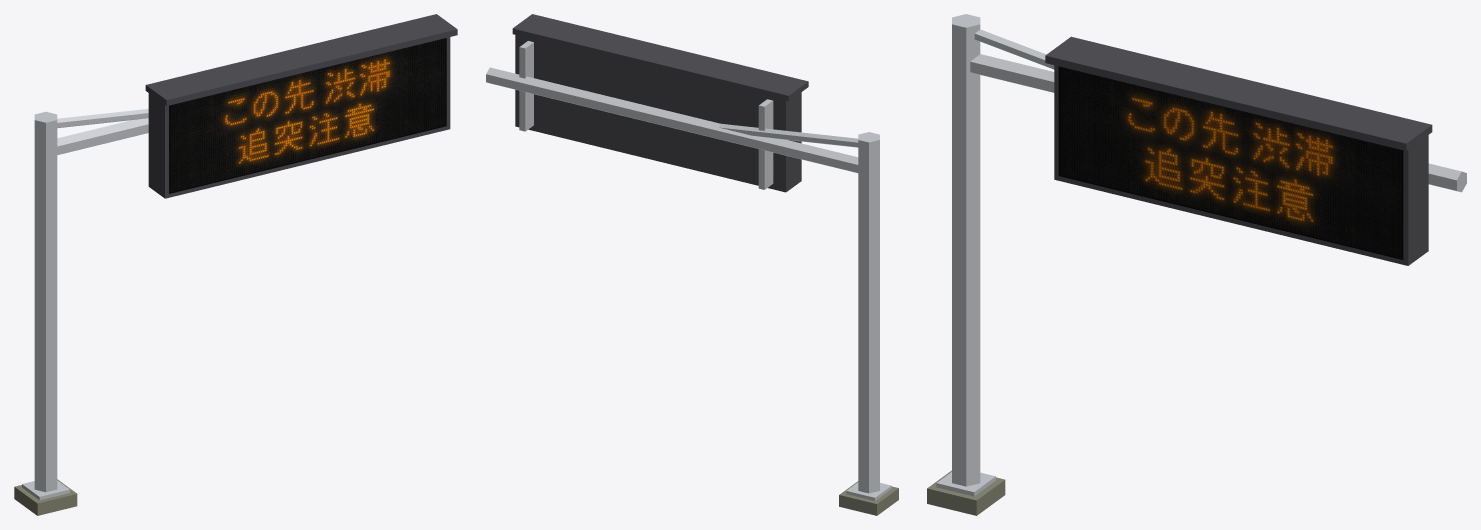
3 renders of one model, left to right at view 1: azimuth 30°, elevation 25°; view 2: azimuth 150°, elevation 25°; view 3: azimuth 330°, elevation 25°, orthographic. The views are drawn at different scales.
Parts seen in each view (by area): view 1: RoadSign_125; view 2: RoadSign_125; view 3: RoadSign_125.
Boxes of the visible parts, x1=… form: RoadSign_125: x1=14, y1=14, x2=457, y2=515; RoadSign_125: x1=486, y1=14, x2=898, y2=515; RoadSign_125: x1=927, y1=14, x2=1466, y2=515.
Bounding box in the file's own units: 8.82 × 8.06 × 1.46.
4 materials, 1 textured.
